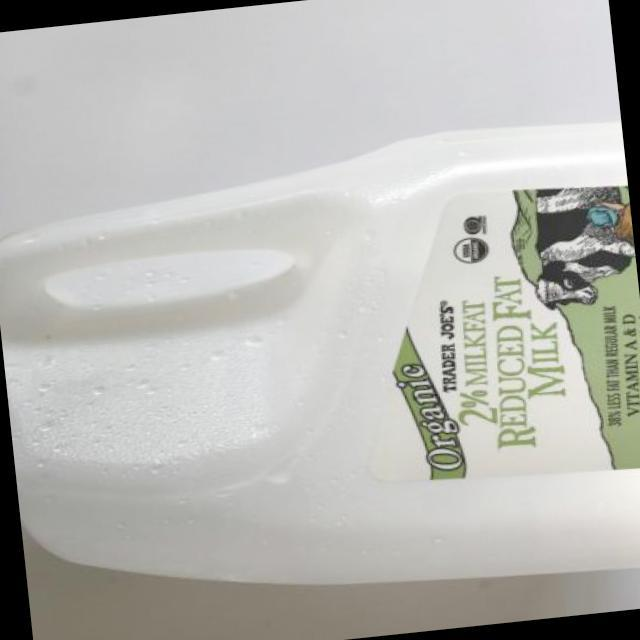HDPE Plastic: (0, 122, 640, 591)
